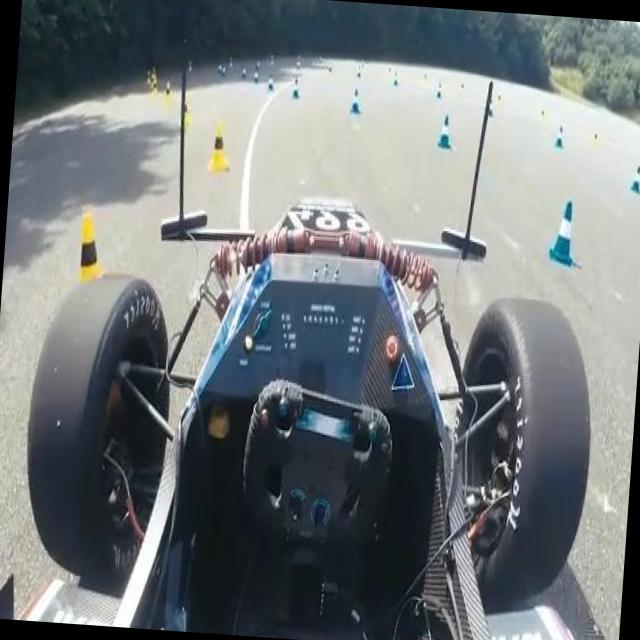Cono de seguridad: (51, 210, 120, 412), (552, 200, 580, 264), (208, 116, 234, 174), (177, 90, 190, 126), (438, 113, 452, 146), (349, 87, 364, 117), (554, 123, 566, 147), (162, 80, 172, 108), (631, 163, 640, 194), (150, 80, 158, 104), (486, 95, 494, 119), (292, 74, 300, 97), (538, 105, 546, 126), (354, 64, 362, 85), (434, 80, 442, 100), (590, 130, 598, 150), (150, 64, 158, 82), (495, 94, 502, 114), (145, 71, 153, 88), (269, 70, 274, 90), (392, 70, 398, 86), (241, 67, 247, 82), (220, 67, 226, 81), (254, 68, 258, 86)
vehiculo: (0, 36, 640, 640)
